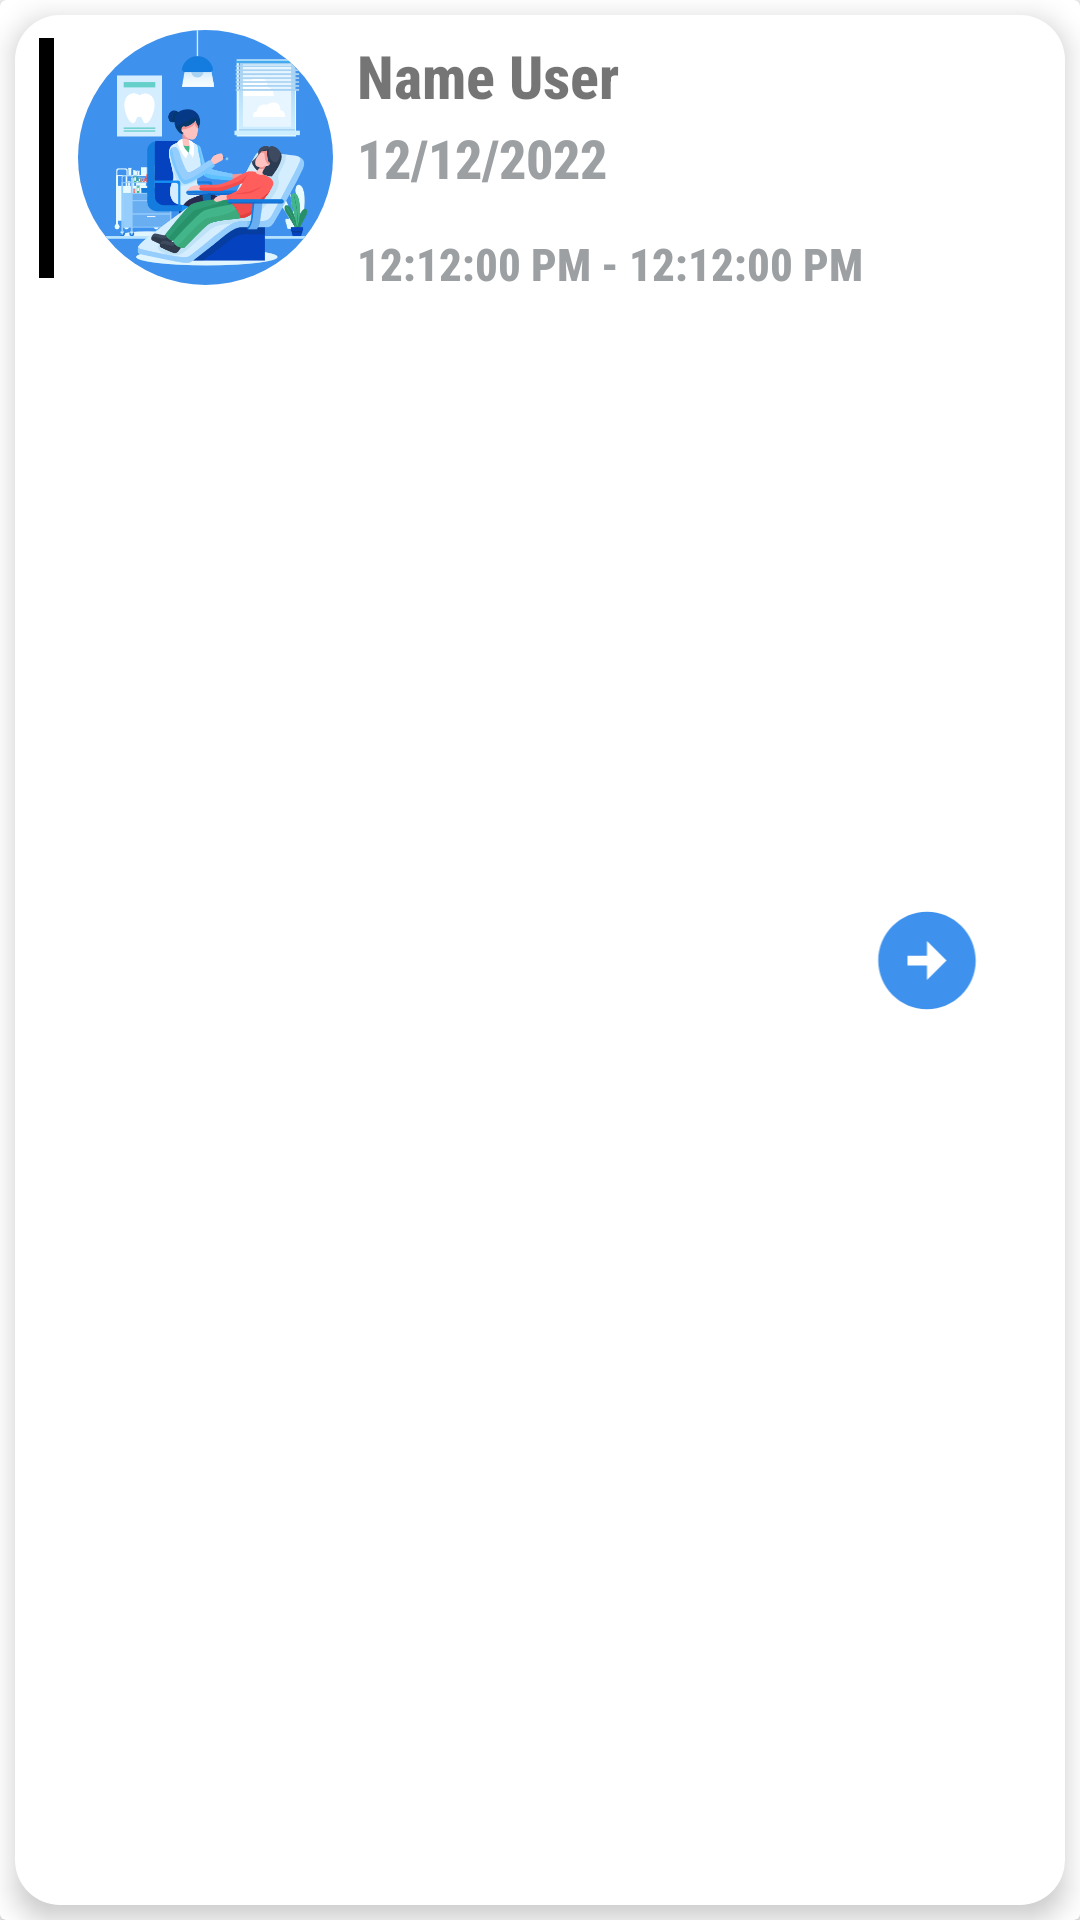

Icon bounding boxes for this 1080*1920 phone screenshot, format (x1, y1, x2, y2):
arrow circle right: (878, 911, 976, 1010)
